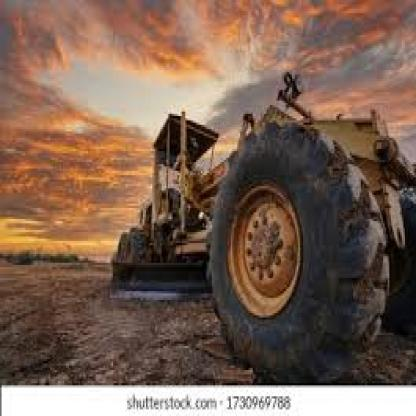bull_dozer/loader/grader: (89, 70, 414, 374)
